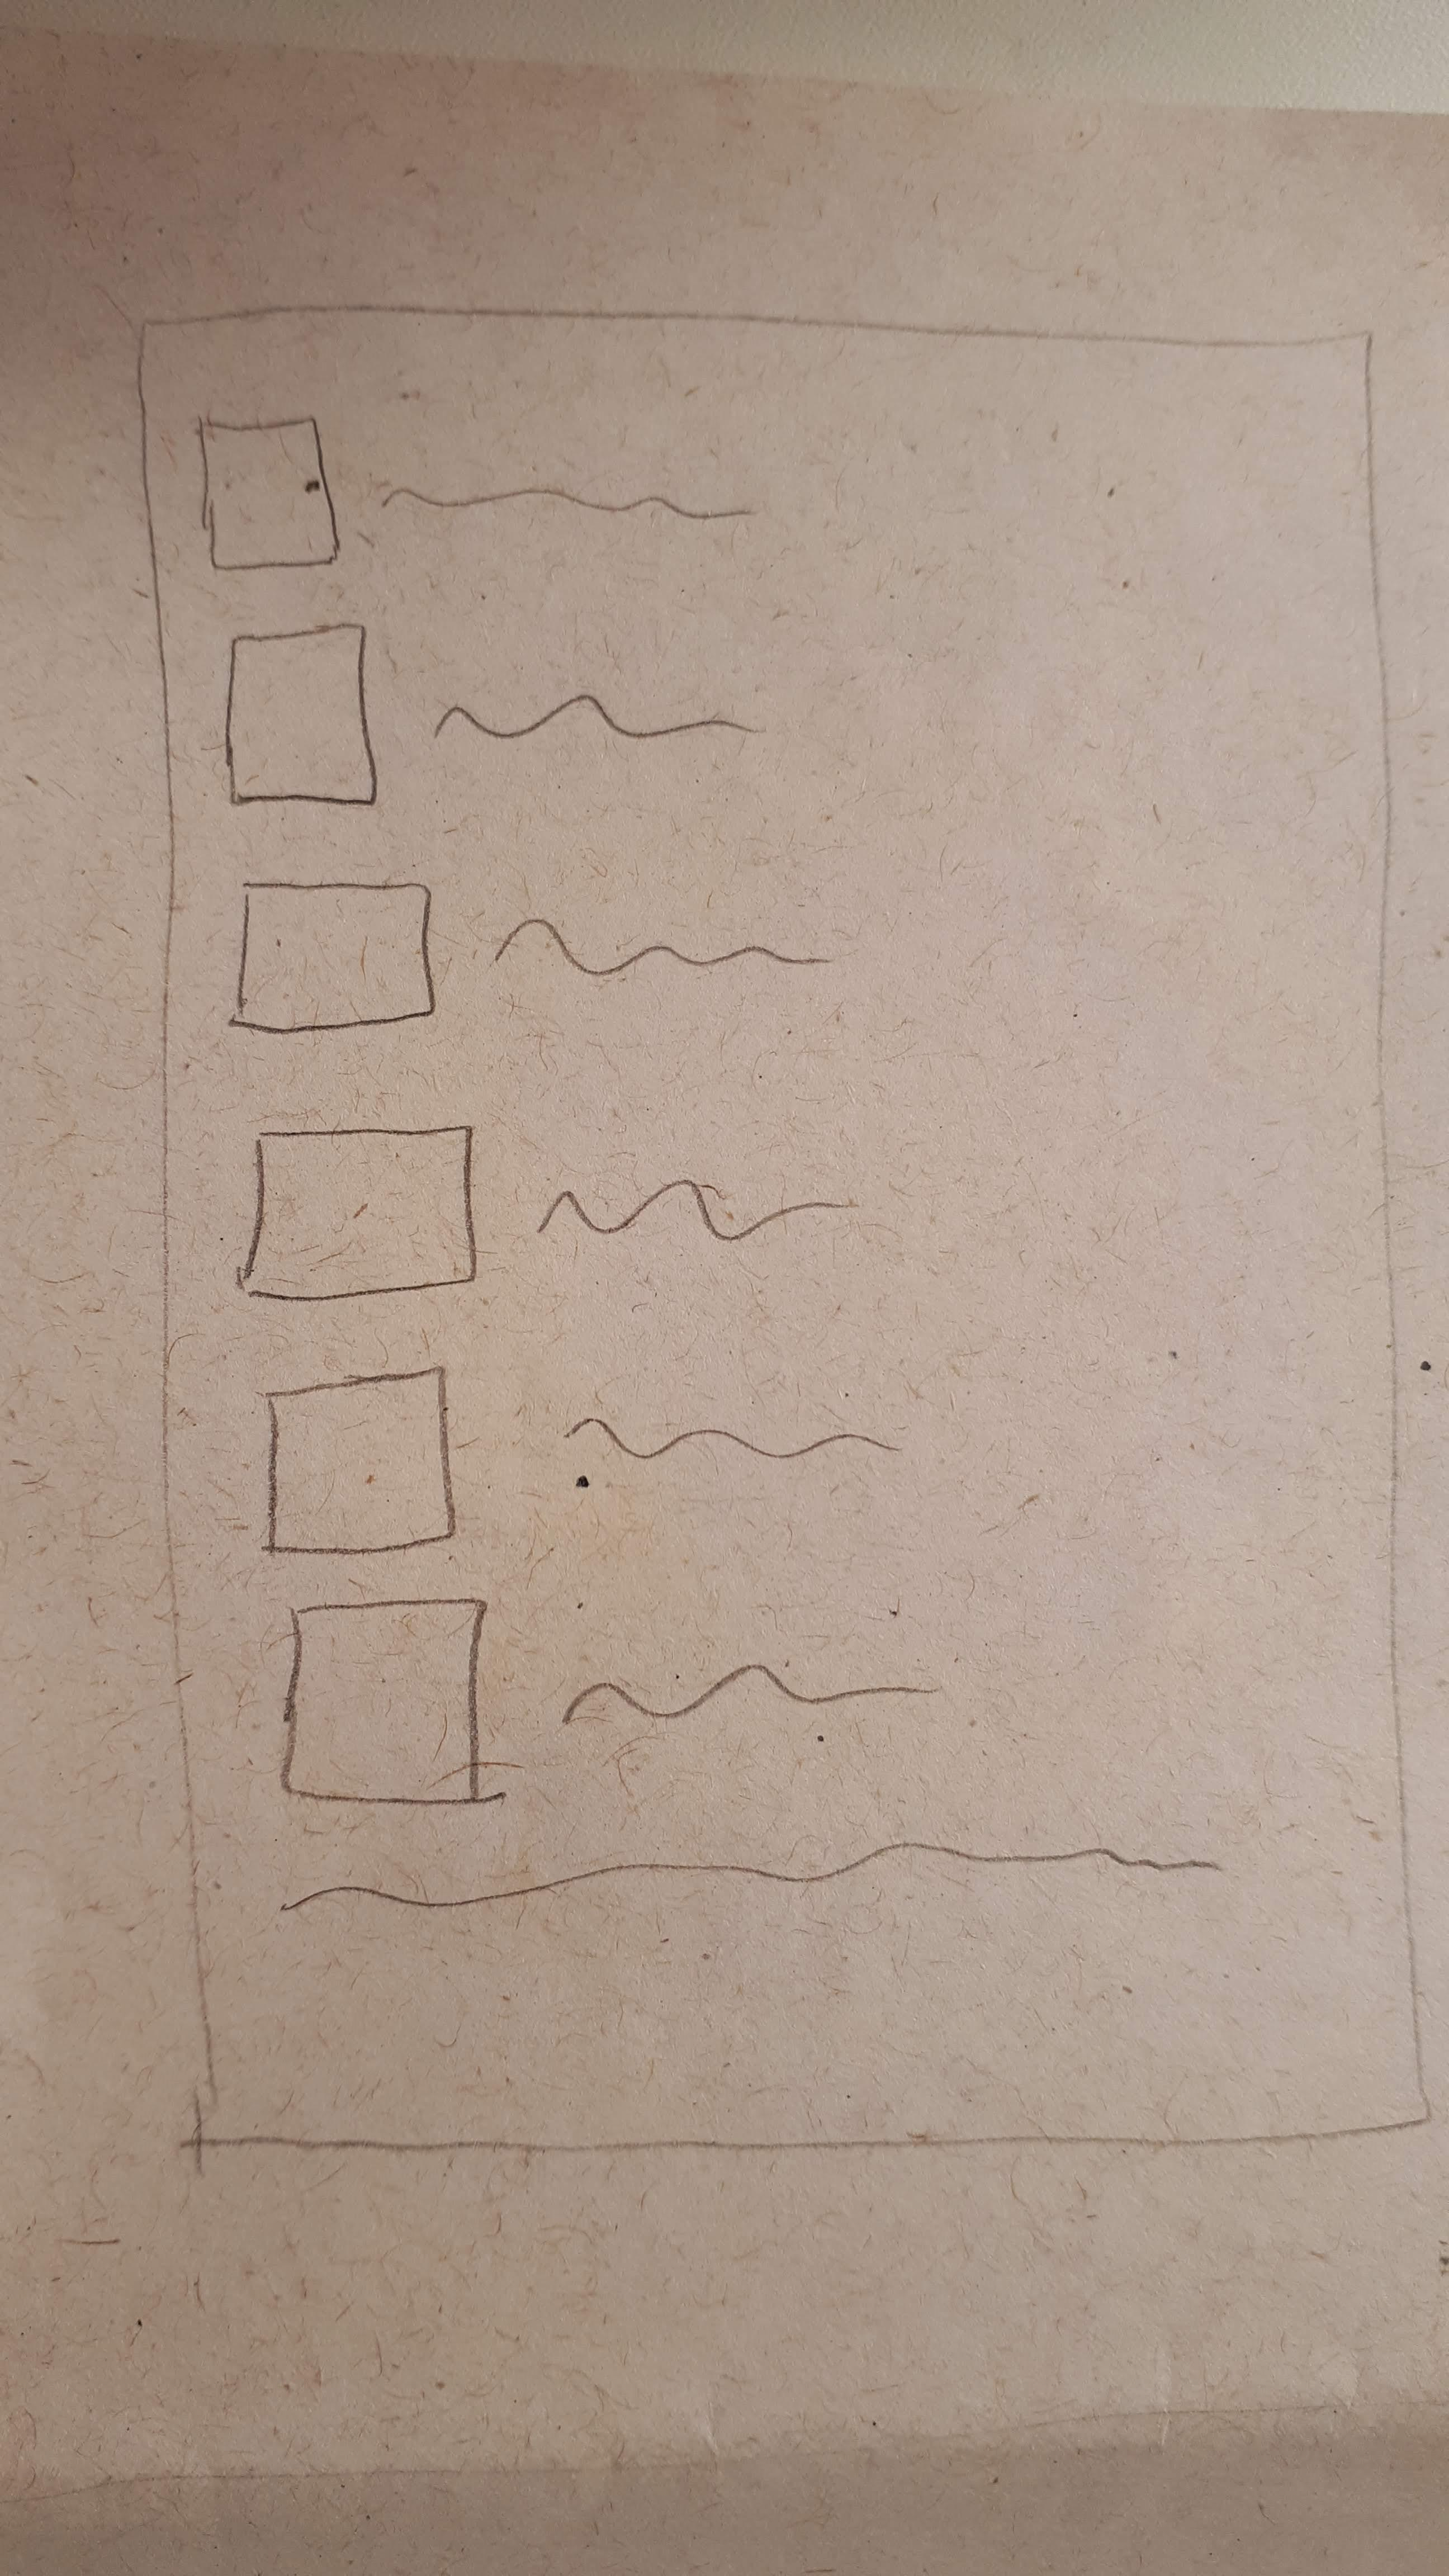CheckBox: (287, 1605, 941, 1805), (265, 1368, 906, 1553), (249, 1127, 860, 1302), (226, 625, 766, 805), (235, 879, 832, 1031), (198, 418, 757, 570)
Label: (276, 1842, 1221, 1916)
Screen: (138, 311, 1433, 2148)
